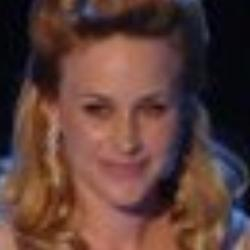face: (7, 1, 241, 228)
